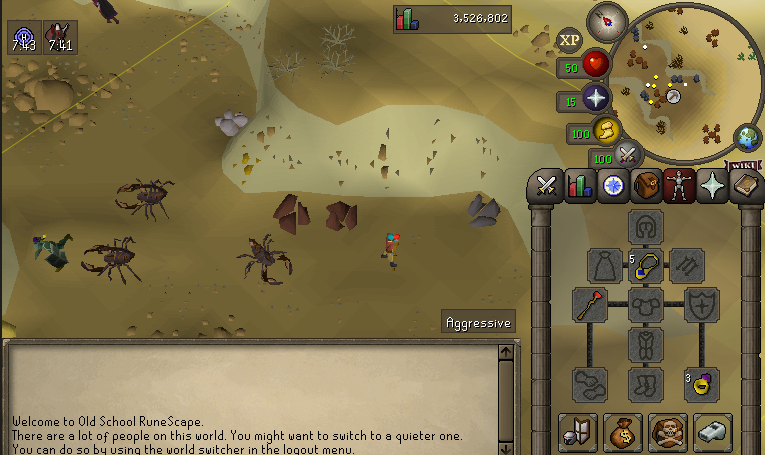depleted: (467, 190, 503, 229)
iron: (270, 193, 313, 237), (325, 198, 360, 235)
